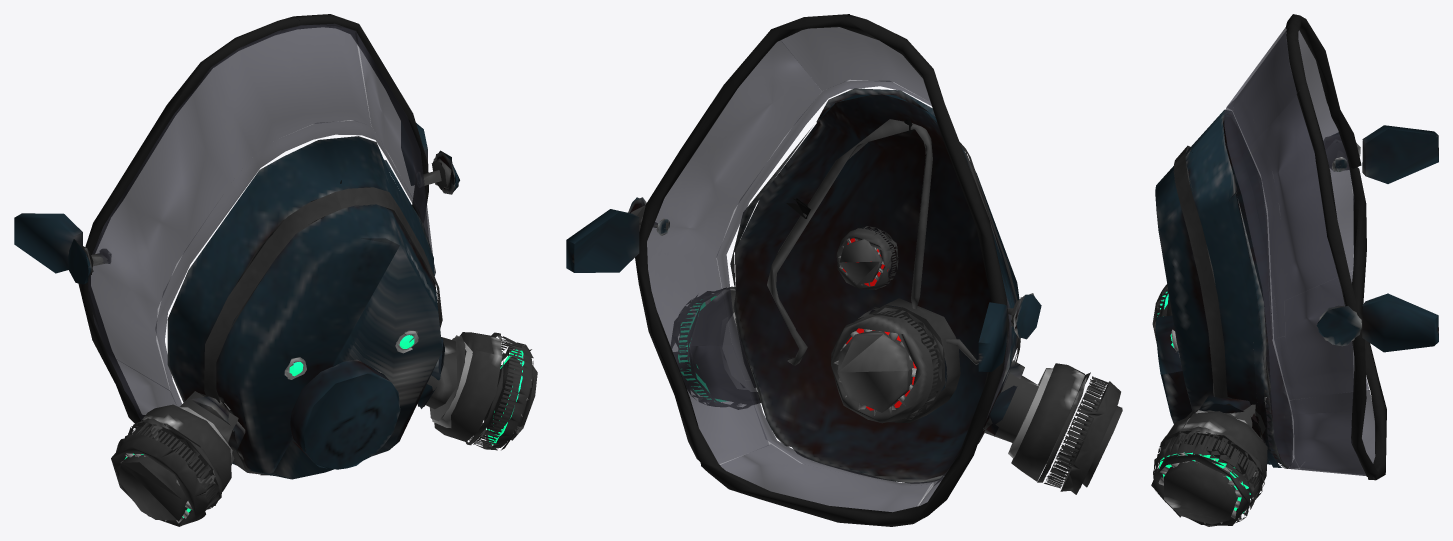
File: SM_gas_maskrespirator.glb
3 views of the same model, side by side, from view 1: azimuth 30°, elevation 25°; view 2: azimuth 150°, elevation 25°; view 3: azimuth 270°, elevation 25° (orthographic). The views are drawn at different scales.
Visible parts, largest first — view 1: SM_gas_maskrespirator; view 2: SM_gas_maskrespirator; view 3: SM_gas_maskrespirator.
Part boxes in pixels (<box>): SM_gas_maskrespirator: <box>14,14,537,526</box>; SM_gas_maskrespirator: <box>566,14,1122,526</box>; SM_gas_maskrespirator: <box>1151,14,1438,526</box>.
Bounding box in the file's own units: 77.8 × 79.48 × 49.06.
2 materials, 2 textured.
